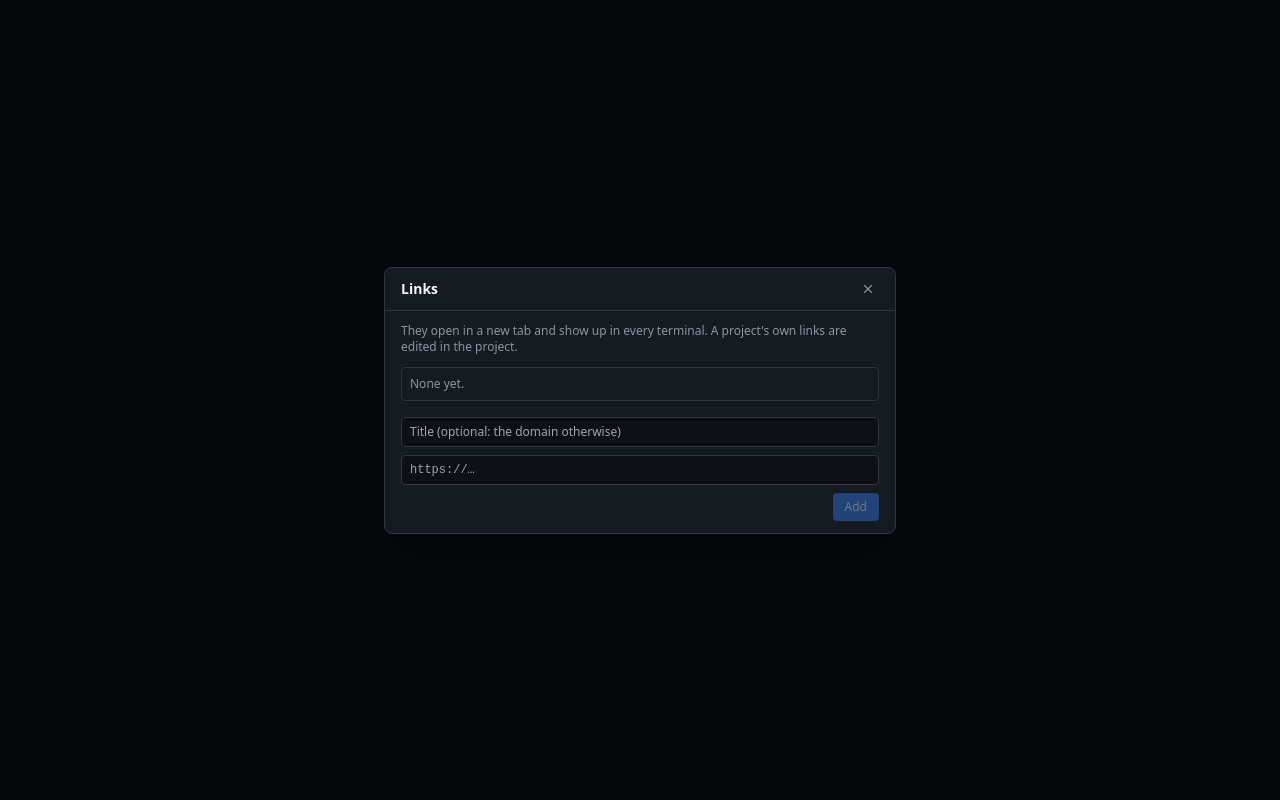
Test case: Ajustes de los enlaces › guarda uno nuevo y lo muestra en la lista
Expected: the list item "None yet." is shown, [410,374,464,392]
In the field with placeholder "Title (optional: the domain otherwise)": (640, 432) [401,416,879,446], type "Forgejo"
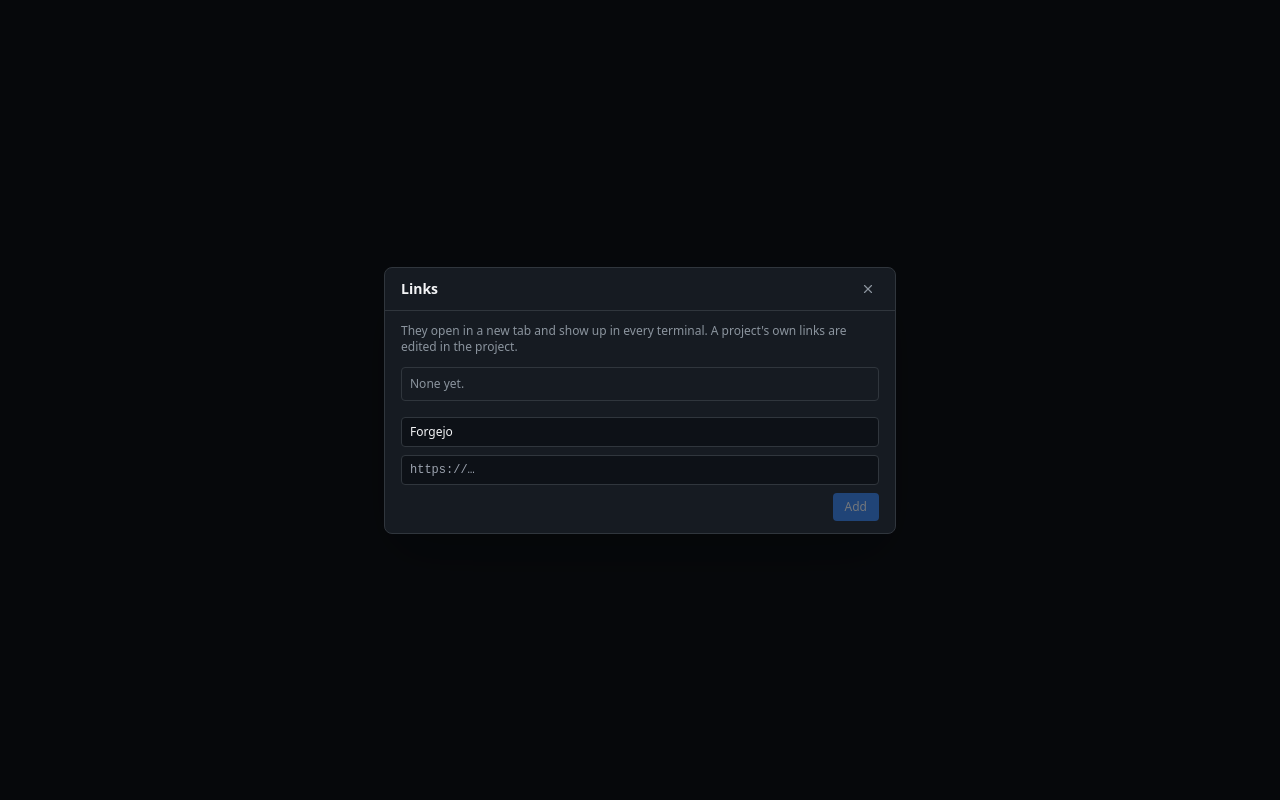
In the field with placeholder "https://…": (640, 470) [401,454,879,484], type "https://git.example/muxspace"
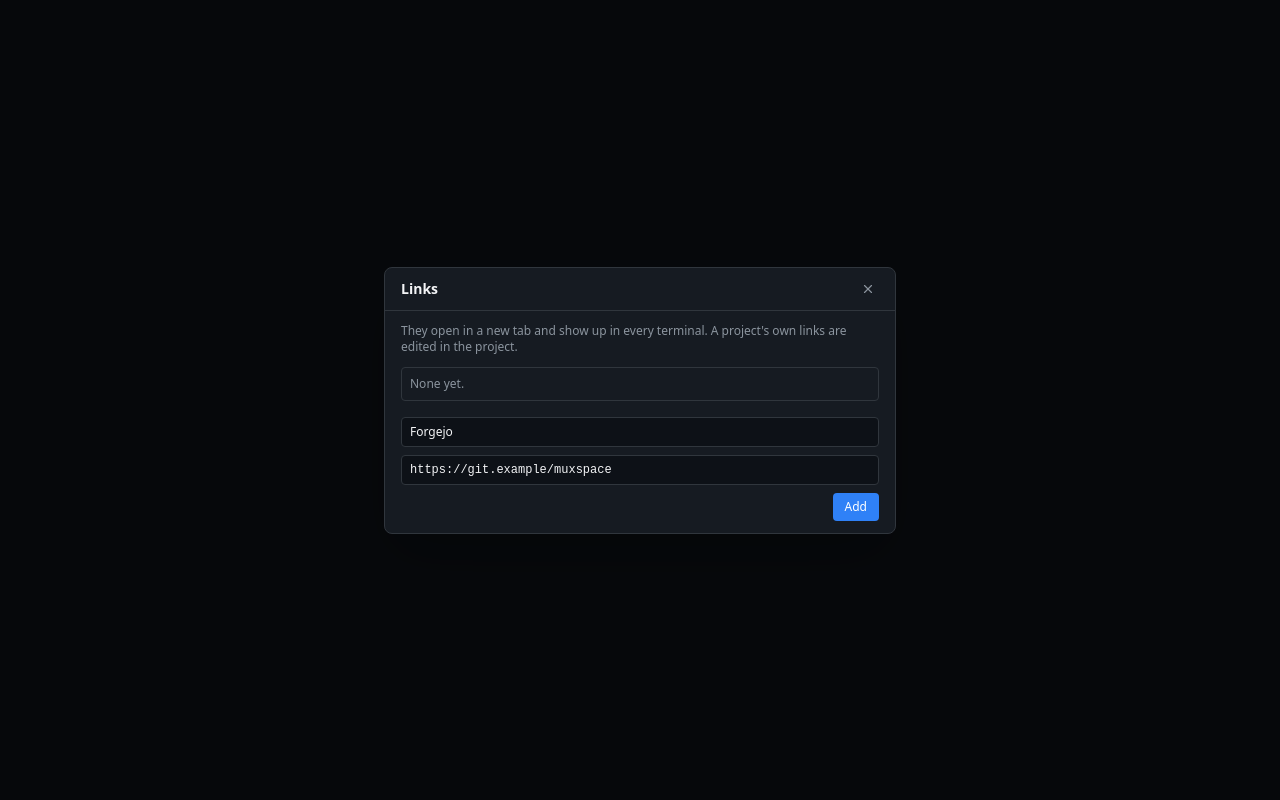
Click the button "Add": (856, 506) [833,492,879,520]
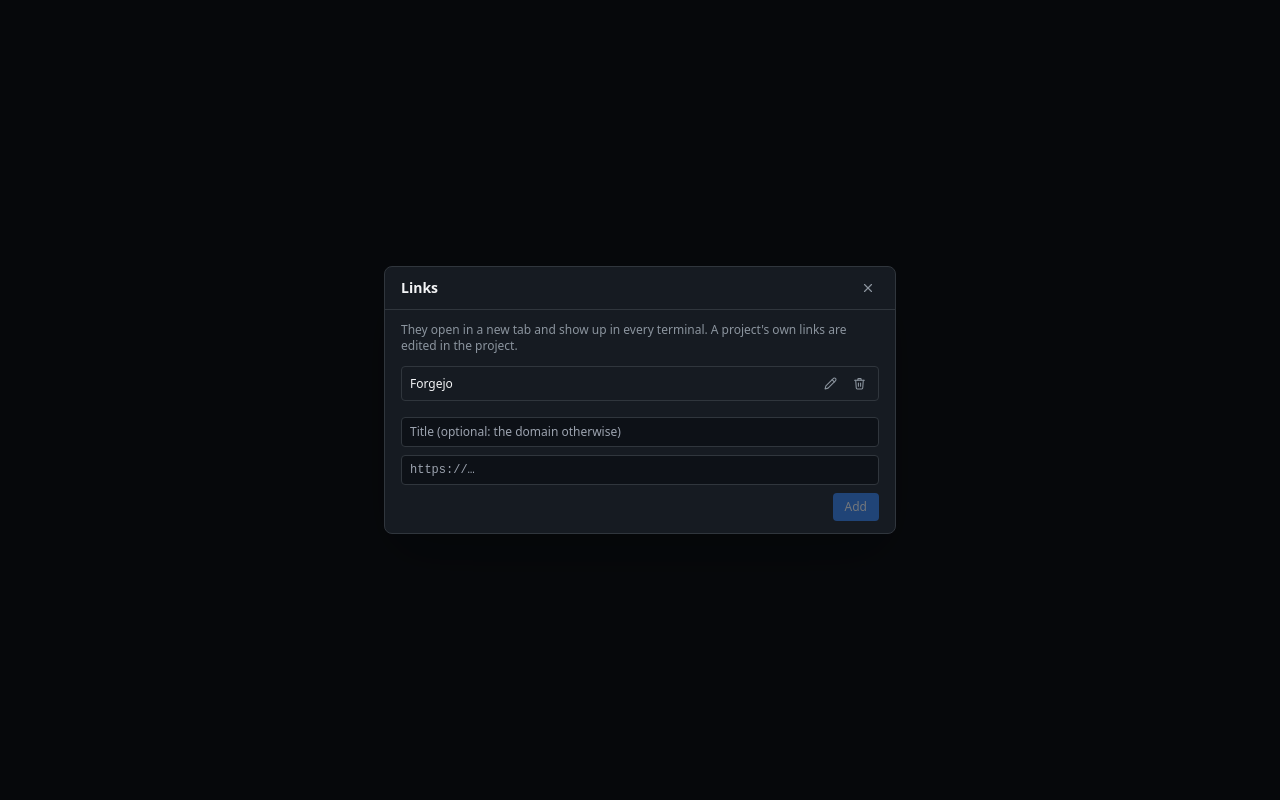
Expected: the text "Forgejo" is shown, [410,374,453,392]
